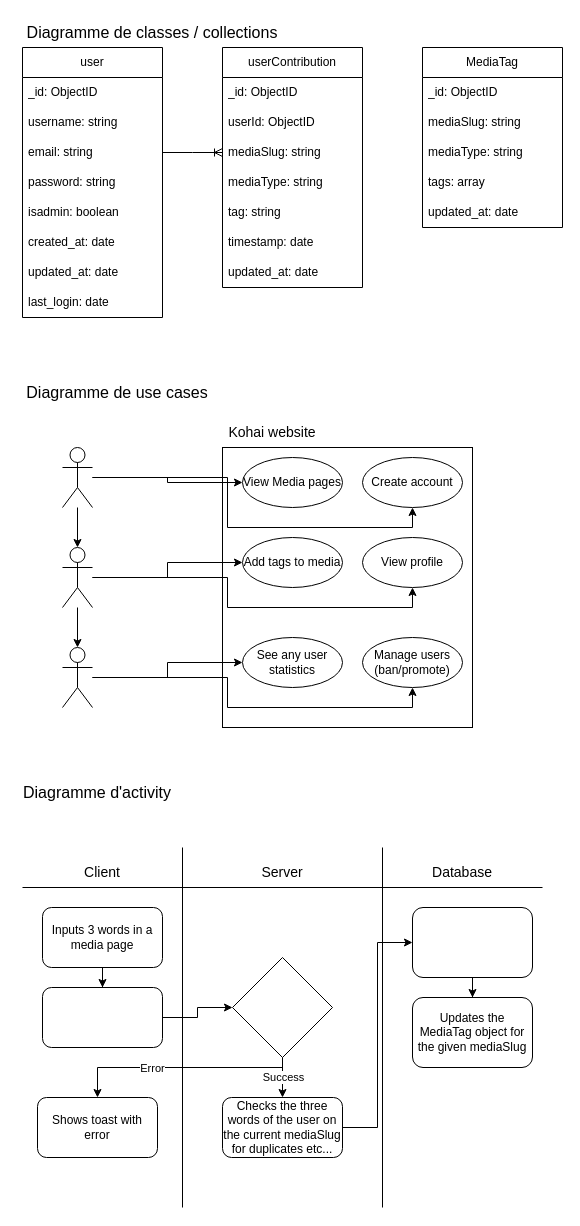
This 580x1226 diagram has some shape labels left out. Each missing label, with the centre of its shape:
Admin: (77,677)
Clicks "submit/update tags" button: (102,1017)
Returns the usercontribution objects that have been updated or added: (472,942)
User (with account): (77,577)
User (without account): (77,477)
Verifies input sanitizes if needed: (282,1007)
